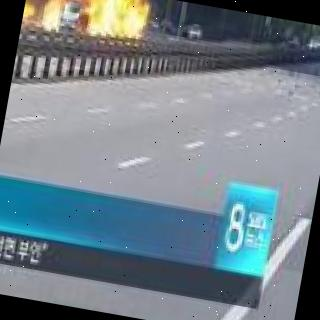fire: (51, 0, 152, 41), (23, 0, 32, 16)
